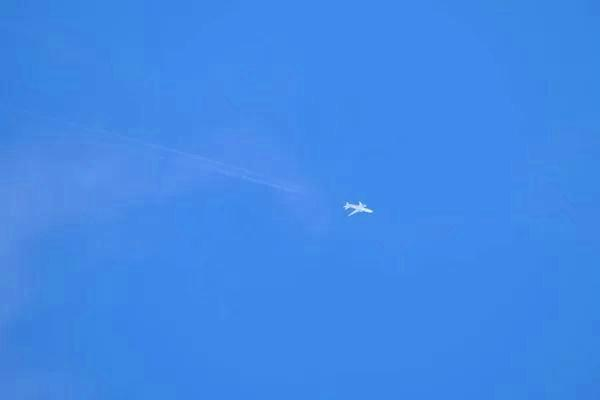Plane: (329, 191, 390, 225)
